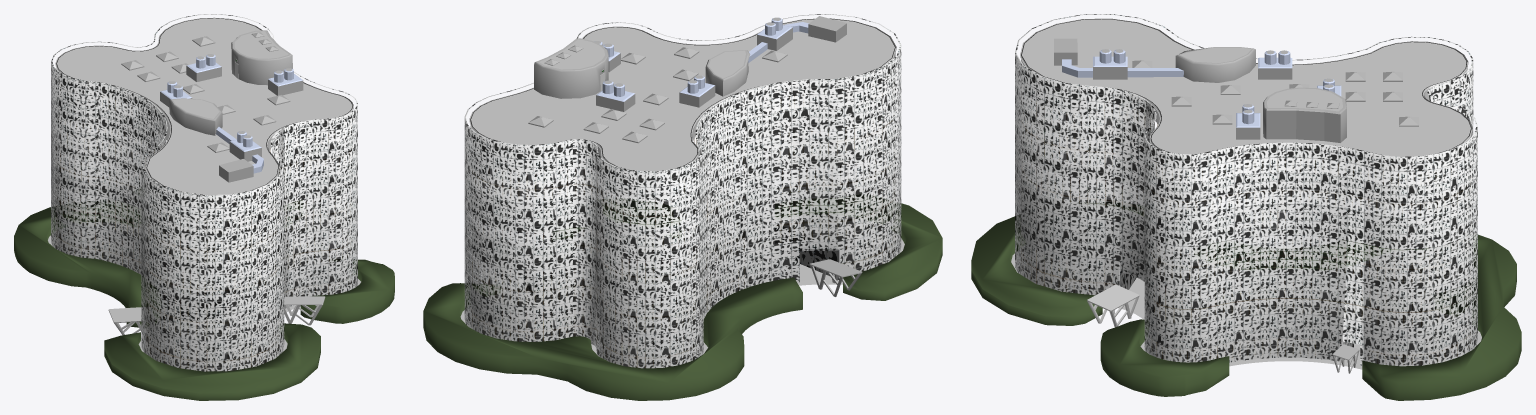
The model's file is cb-btu-ikmz_LOD00.gltf.
The picture shows the model from 3 angles, left to right: view 1: azimuth 30°, elevation 25°; view 2: azimuth 150°, elevation 25°; view 3: azimuth 270°, elevation 25°; orthographic projection. The views are drawn at different scales.
Parts seen in each view (by area): view 1: outer wall, floor 0, roof, inner wall, roof tech, vents, roof sub 2.001, roof inset.001, roof sub 2.002, roof pipe.001, entrance.002, roof sub 1.003 (+2 smaller); view 2: outer wall, floor 0, roof, inner wall, roof tech, vents, roof sub 2.001, roof inset.001, roof sub 2.002, roof pipe.001, entrance.001, roof sub 1.001 (+1 smaller); view 3: outer wall, floor 0, roof, inner wall, roof sub 2.002, roof tech, vents, roof inset.001, roof sub 1.002, roof pipe.001, entrance.002, roof sub 1.001 (+1 smaller).
Boxes of the visible parts, x1,y1,x2,y2 form: outer wall: [51, 14, 357, 371]; floor 0: [14, 188, 394, 400]; roof: [57, 18, 351, 194]; inner wall: [56, 68, 352, 370]; roof tech: [160, 54, 303, 161]; vents: [121, 32, 290, 152]; roof sub 2.001: [231, 37, 292, 85]; roof inset.001: [55, 17, 353, 196]; roof sub 2.002: [232, 30, 290, 59]; roof pipe.001: [216, 127, 263, 182]; entrance.002: [281, 296, 325, 325]; roof sub 1.003: [169, 99, 215, 135]; outer wall: [464, 14, 901, 368]; floor 0: [423, 190, 942, 400]; roof: [471, 19, 894, 171]; inner wall: [470, 53, 895, 367]; roof tech: [594, 17, 792, 111]; vents: [528, 45, 787, 143]; roof sub 2.001: [534, 45, 608, 98]; roof inset.001: [469, 18, 896, 173]; roof sub 2.002: [536, 38, 607, 70]; roof pipe.001: [748, 16, 846, 62]; entrance.001: [809, 259, 862, 296]; roof sub 1.001: [707, 50, 747, 79]; outer wall: [1015, 14, 1477, 366]; floor 0: [971, 202, 1521, 400]; roof: [1022, 19, 1470, 156]; inner wall: [1021, 59, 1471, 364]; roof sub 2.002: [1264, 87, 1345, 142]; roof tech: [1093, 49, 1341, 139]; vents: [1132, 60, 1418, 126]; roof inset.001: [1020, 18, 1472, 158]; roof sub 1.002: [1175, 48, 1255, 82]; roof pipe.001: [1054, 38, 1183, 77]; entrance.002: [1087, 284, 1139, 327]; roof sub 1.001: [1178, 47, 1253, 63].
Size of what is drawn, in the model's own units: 57.75 by 38.9 by 75.42.
